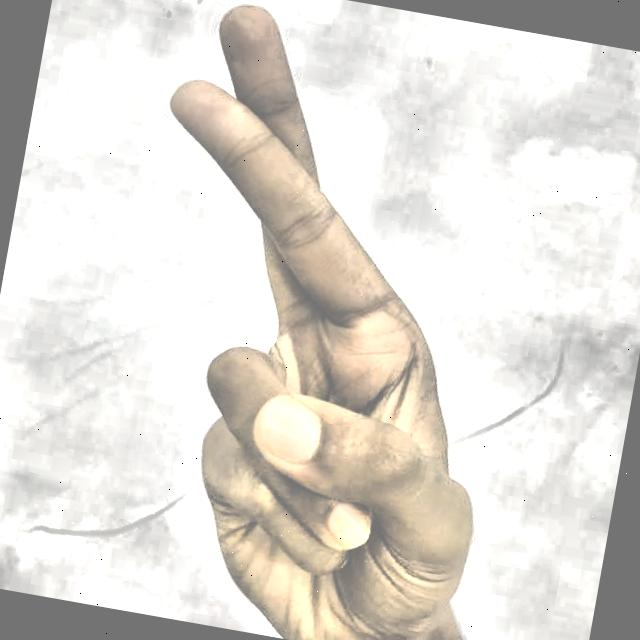Ra: (55, 0, 582, 640)
